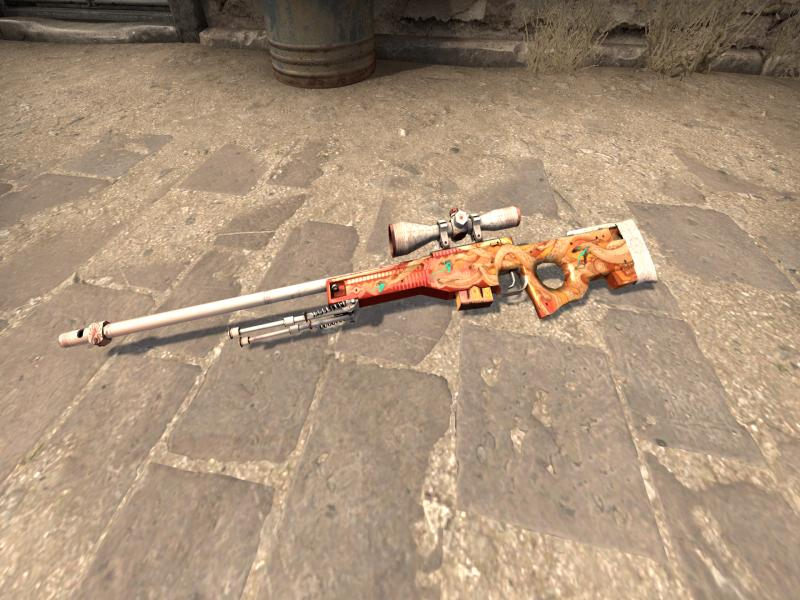AWP: (41, 178, 689, 412)
